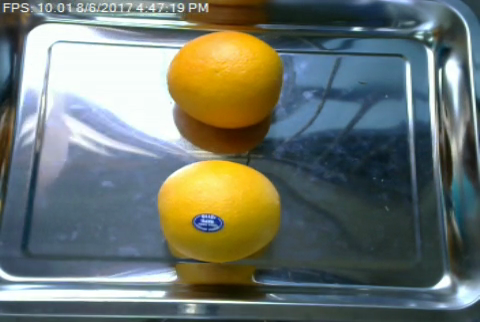Orange: (156, 159, 282, 262), (168, 31, 283, 127)
